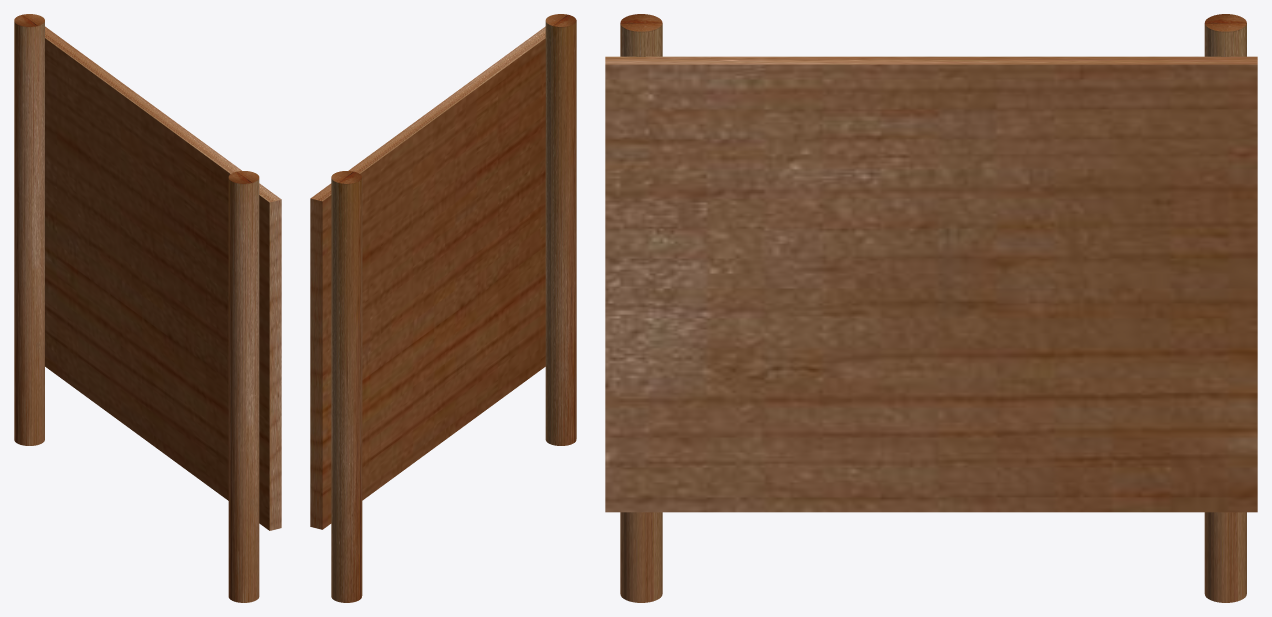
The model's file is Panneau.fbx.
The picture shows the model from 3 angles, left to right: view 1: azimuth 30°, elevation 25°; view 2: azimuth 150°, elevation 25°; view 3: azimuth 270°, elevation 25°; orthographic projection. The views are drawn at different scales.
Visible parts, largest first — view 1: Panneau, Cylinder1, Cylinder2; view 2: Panneau, Cylinder1, Cylinder2; view 3: Panneau, Cylinder1, Cylinder2.
Part boxes in pixels (box(x1,y1,x2,y2)): Panneau: box(45, 26, 281, 530); Cylinder1: box(228, 171, 259, 602); Cylinder2: box(14, 14, 44, 445); Panneau: box(310, 26, 545, 529); Cylinder1: box(545, 14, 576, 445); Cylinder2: box(331, 171, 362, 602); Panneau: box(605, 56, 1257, 512); Cylinder1: box(620, 14, 662, 602); Cylinder2: box(1204, 14, 1246, 602).
Bounding box in the file's own units: 22.58 × 238 × 246.
